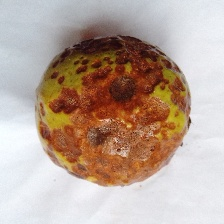guava: (44, 12, 194, 186)
